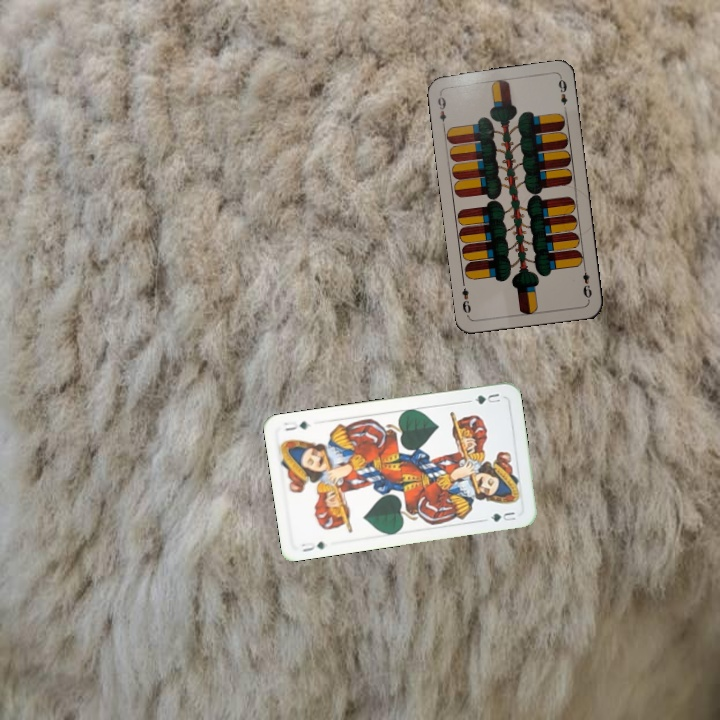E9: (579, 262, 594, 302), (434, 90, 449, 130)
GU: (470, 389, 503, 407), (297, 537, 328, 555)
